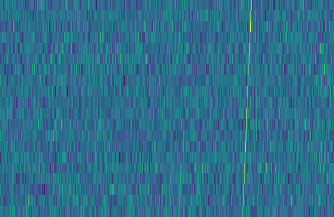signal: (239, 0, 257, 217)
